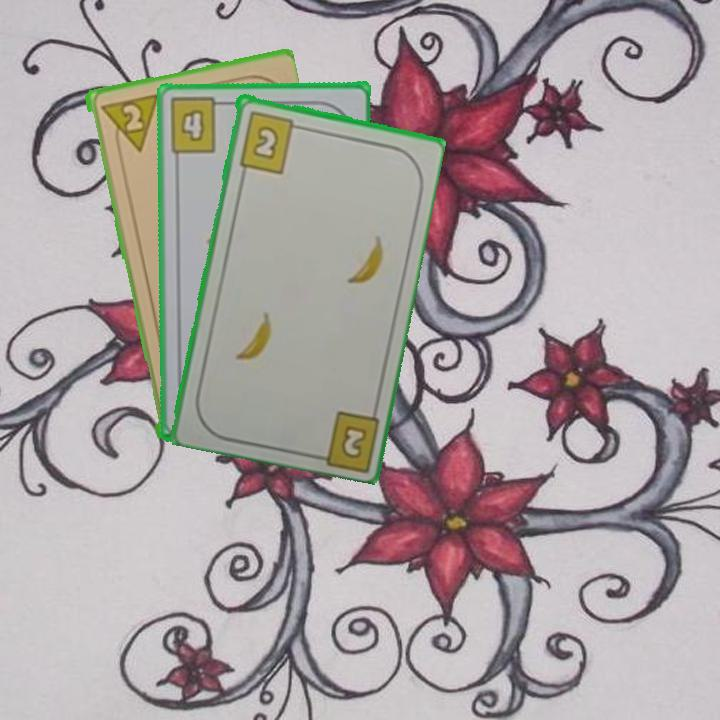2b: (235, 107, 305, 176), (337, 421, 370, 462)
2p: (96, 90, 160, 157)
4b: (166, 94, 230, 156)
